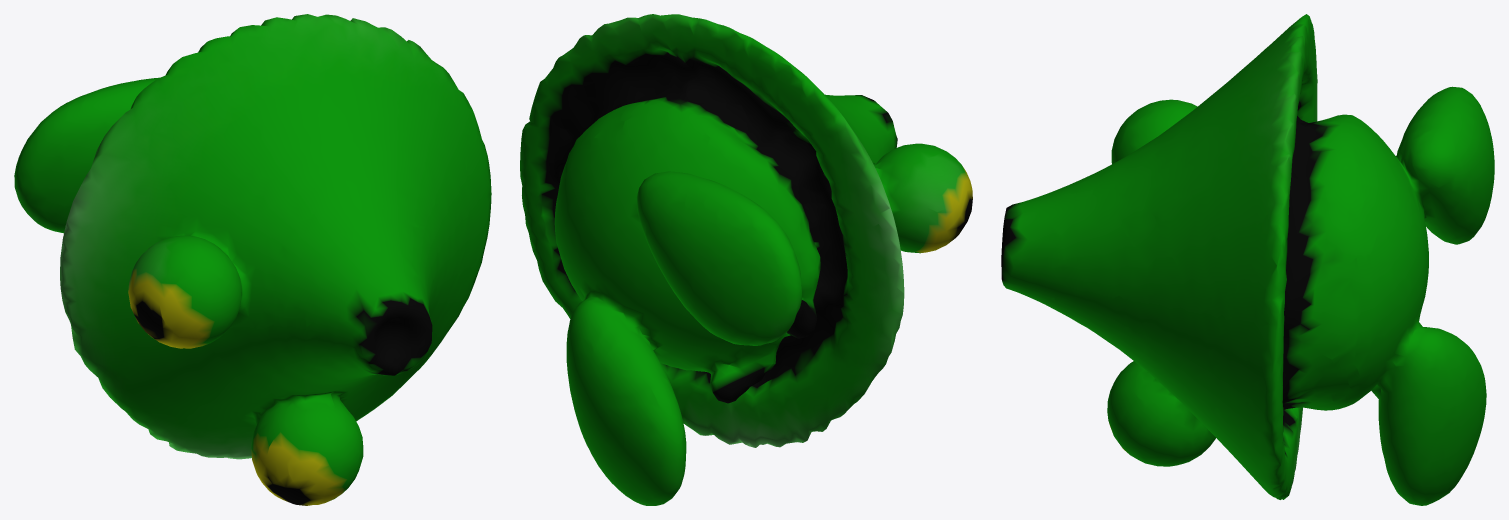
Rendered from hopti-badie_with_UV.obj.
The picture shows the model from 3 angles, left to right: view 1: azimuth 30°, elevation 25°; view 2: azimuth 150°, elevation 25°; view 3: azimuth 270°, elevation 25°; orthographic projection. The views are drawn at different scales.
Size of the model in its own units: 1.93 by 2 by 1.94.
